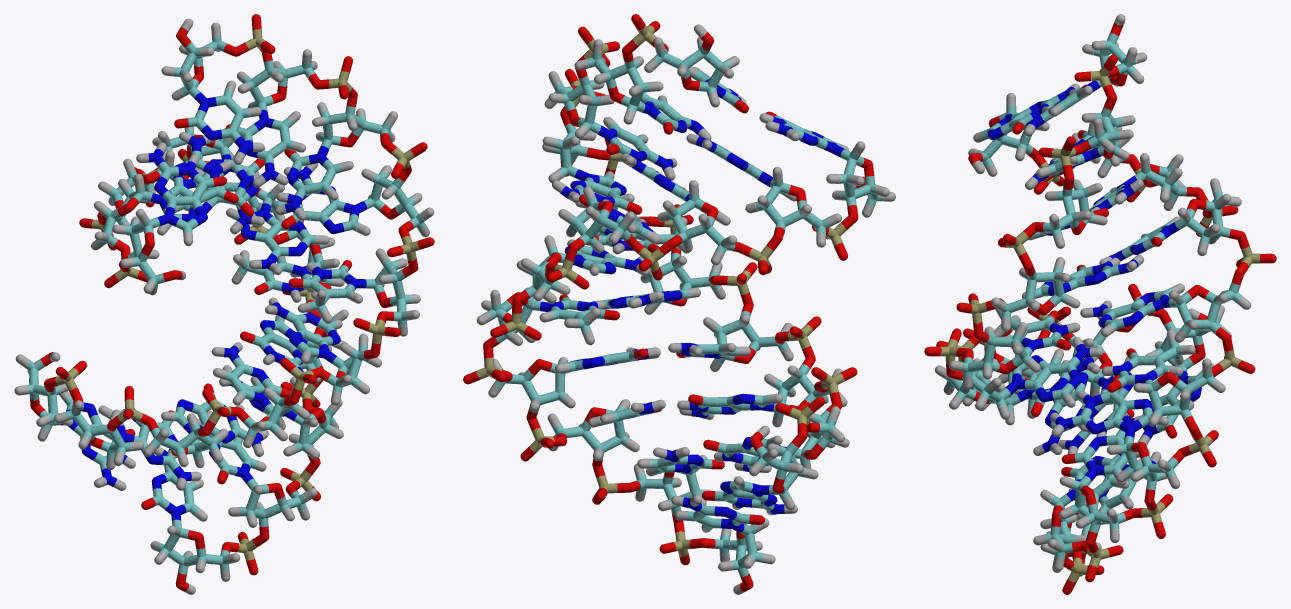
File: a-dna.gltf
3 views of the same model, side by side, from view 1: azimuth 30°, elevation 25°; view 2: azimuth 150°, elevation 25°; view 3: azimuth 270°, elevation 25° (orthographic). The views are drawn at different scales.
Visible parts, largest first — view 1: vmd_mol0_rep0; view 2: vmd_mol0_rep0; view 3: vmd_mol0_rep0.
Part boxes in pixels (box(x1,y1,x2,y2)): vmd_mol0_rep0: box(14, 14, 434, 594); vmd_mol0_rep0: box(463, 14, 895, 594); vmd_mol0_rep0: box(924, 14, 1276, 594).
Bounding box in the file's own units: 1.47 × 2.38 × 1.33.
